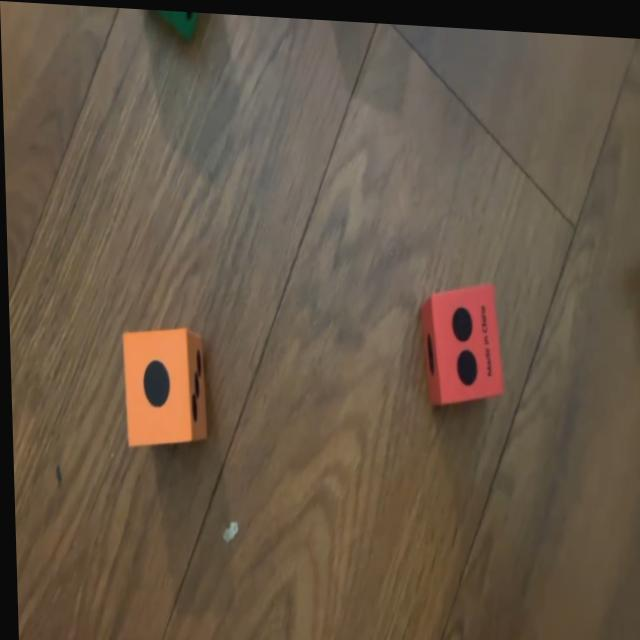red_block: (418, 275, 503, 405)
